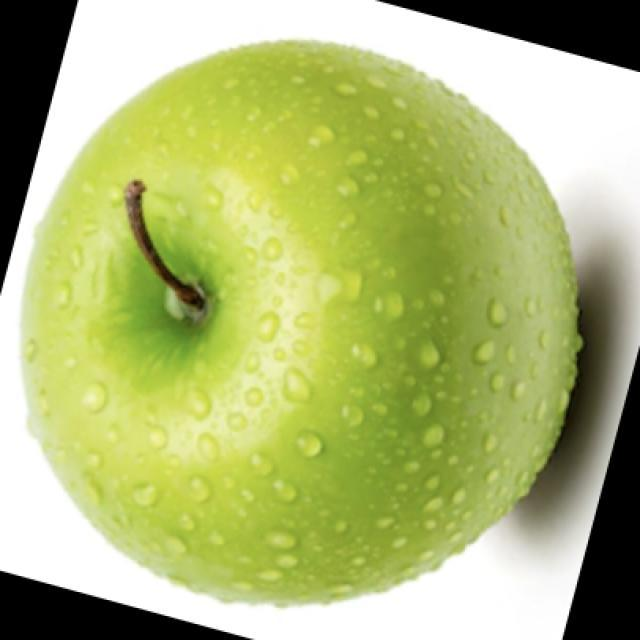Fresh Apple: (60, 45, 588, 615)
